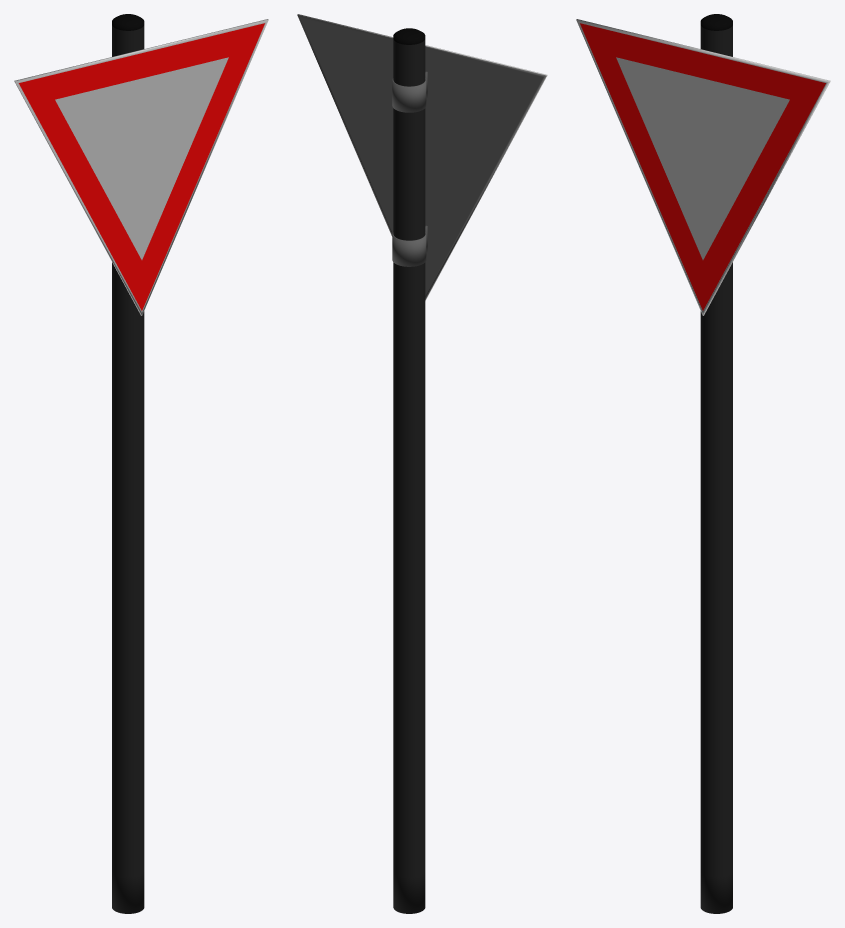
File: VorfahrtGewaehren.obj
3 views of the same model, side by side, from view 1: azimuth 30°, elevation 25°; view 2: azimuth 150°, elevation 25°; view 3: azimuth 330°, elevation 25° (orthographic).
Parts seen in each view (by area): view 1: Circle_Circle.001; view 2: Circle_Circle.001; view 3: Circle_Circle.001.
Part boxes in pixels (x1,y1,x2,y2): Circle_Circle.001: (14, 14, 268, 913); Circle_Circle.001: (297, 14, 547, 913); Circle_Circle.001: (576, 14, 830, 913).
Bounding box in the file's own units: 0.9 × 3.01 × 0.1381.
